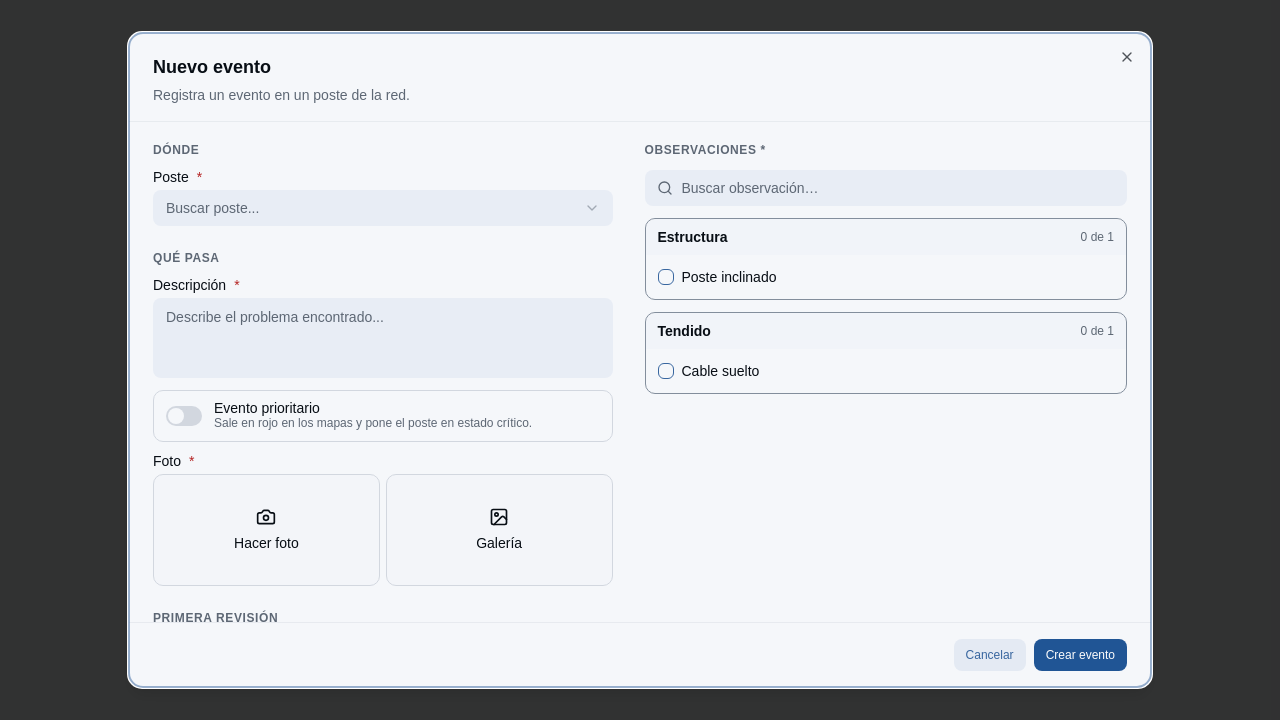
Test case: opened without a pole › counts the pole among what is missing
This screenshot has width=1280, height=720.
Click the button "Crear evento" at (1080, 655), box [1034, 639, 1127, 671]
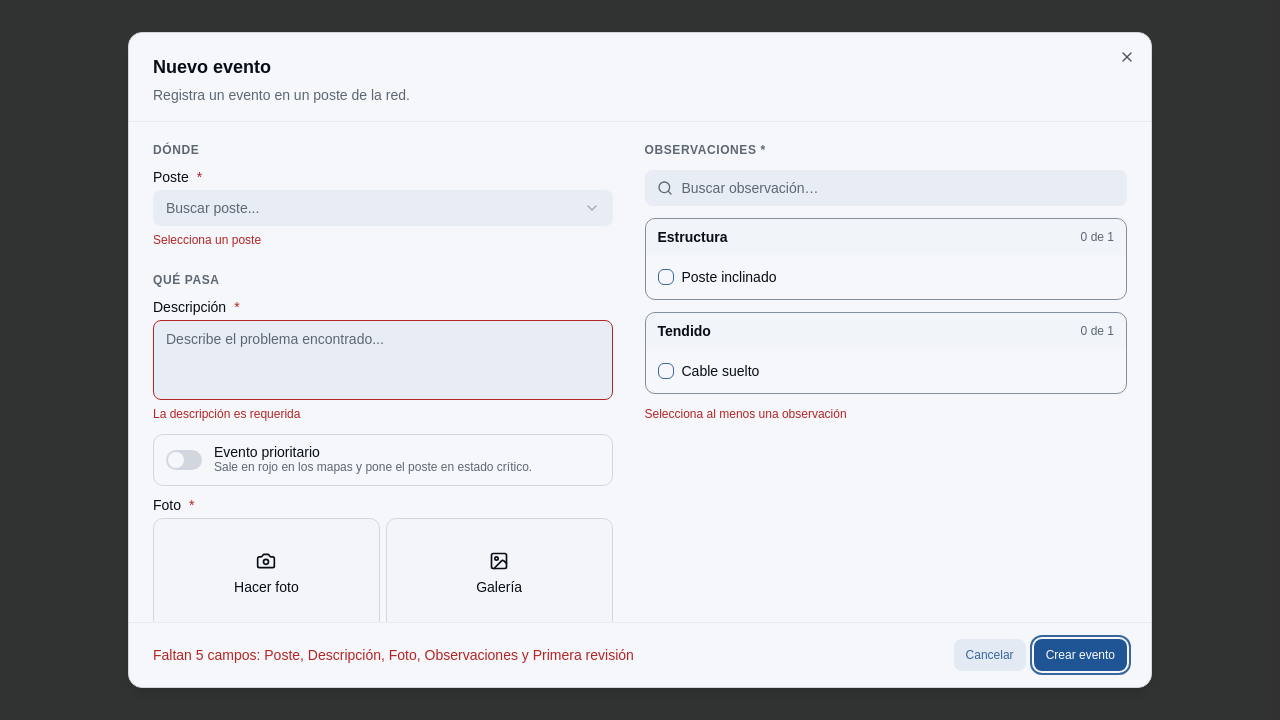
Expected: the message reads "Faltan 5 campos: Poste, Descripción, Foto, Observaciones y Primera revisión", [153, 647, 634, 663]
